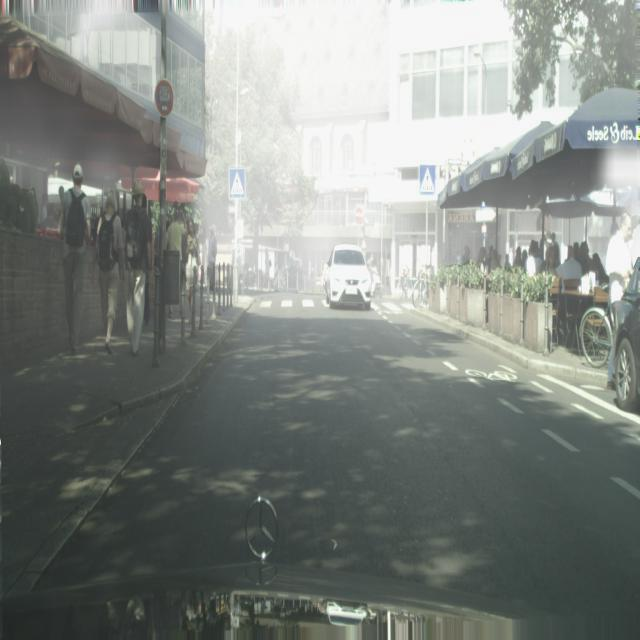person: (59, 162, 92, 352), (124, 180, 153, 356), (96, 190, 124, 354), (606, 210, 633, 330), (208, 226, 218, 297), (526, 240, 545, 276), (513, 244, 522, 269)
truck: (609, 259, 640, 413), (325, 242, 372, 309)
